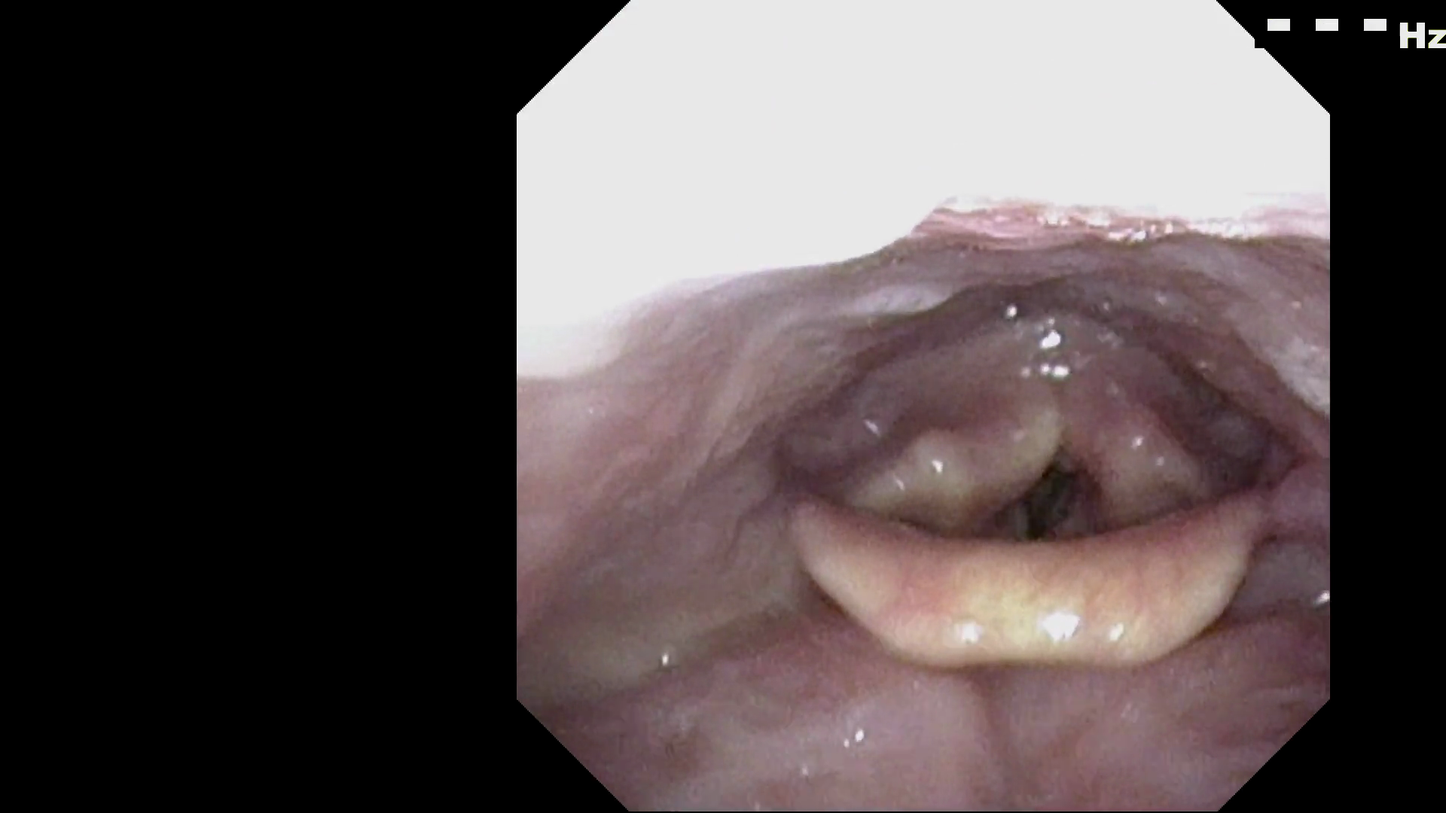epiglottis: (781, 456, 1306, 695)
trachea: (975, 403, 1122, 557)
